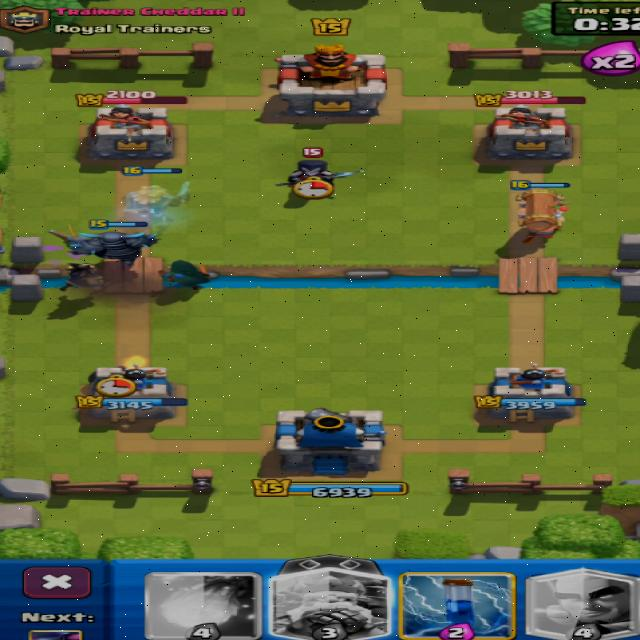Enemy-KingTower: (277, 45, 386, 117)
Enemy-NightWitch: (275, 159, 366, 188)
Enemy-PrincessTower: (87, 100, 173, 160), (486, 104, 572, 160)
Player-Bandit: (165, 260, 209, 290)
Player-BattleRam: (515, 189, 564, 243)
Player-ElectroWizard: (62, 263, 102, 291)
Player-KingTower-Activated: (276, 408, 384, 475)
Player-PEKKA: (68, 231, 157, 264)
Player-PrincessTower: (75, 363, 187, 422), (474, 364, 584, 423)
Player-RoyalGhost: (125, 182, 187, 222)
